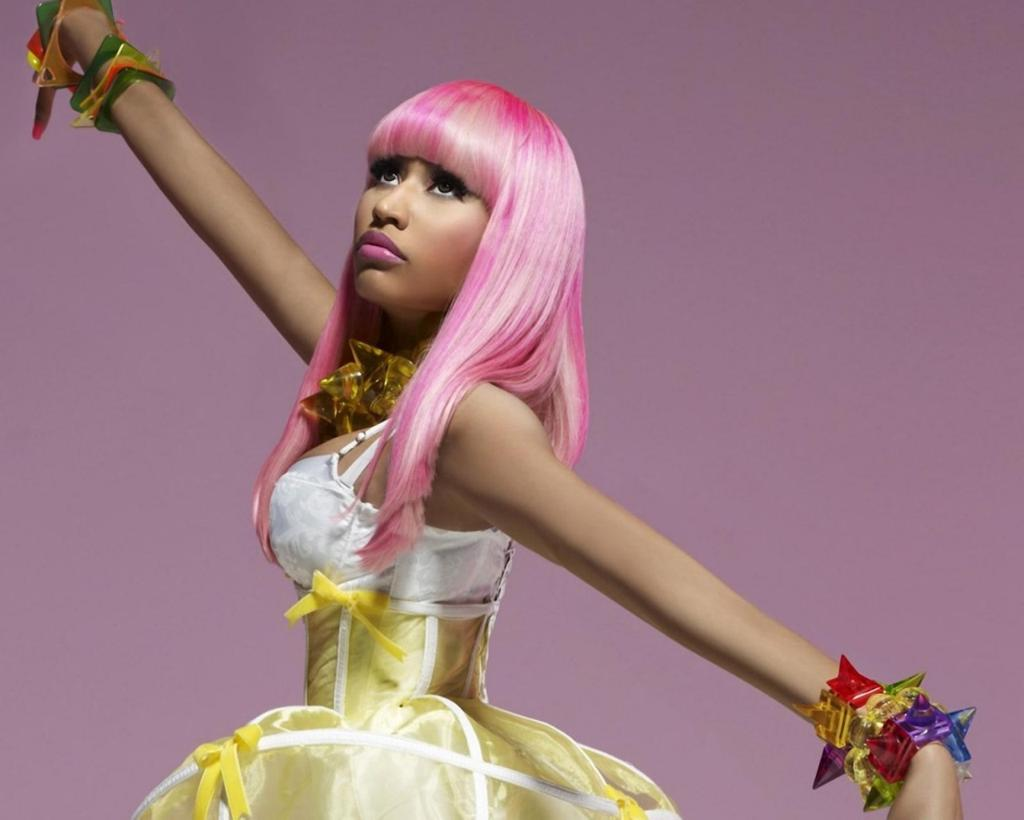face: (348, 118, 490, 302)
